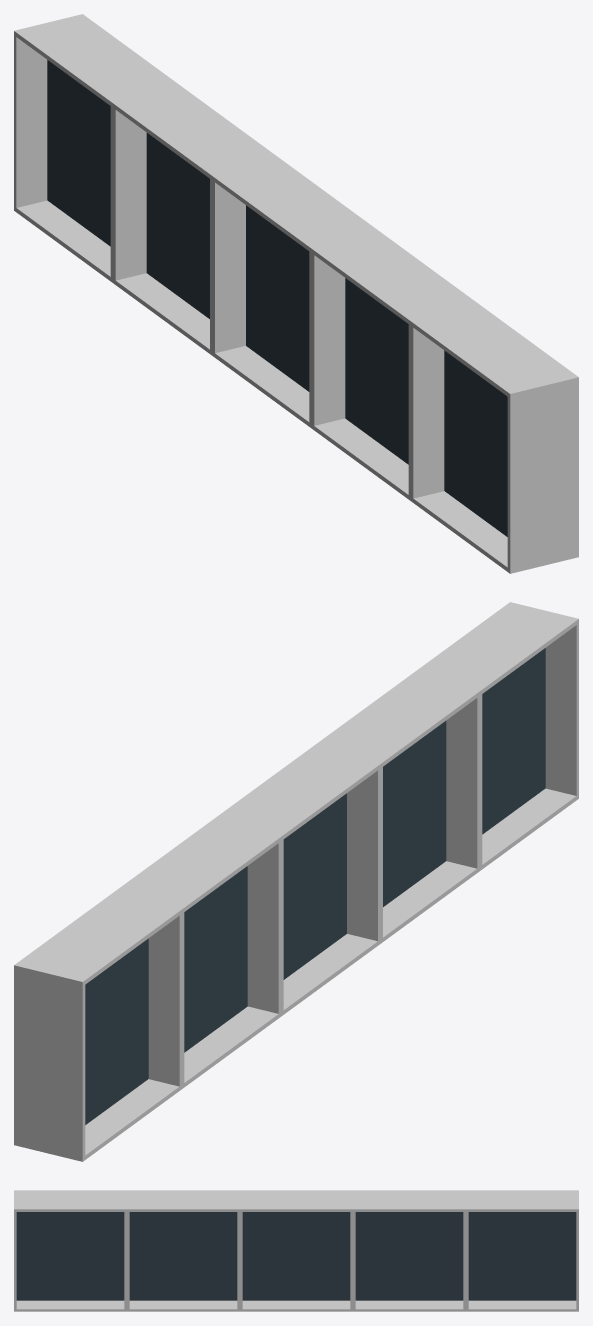
Rendered from Janela25x05.fbx.
The picture shows the model from 3 angles, top to bottom: view 1: azimuth 30°, elevation 25°; view 2: azimuth 150°, elevation 25°; view 3: azimuth 270°, elevation 25°; orthographic projection. The views are drawn at different scales.
Visible parts, largest first — view 1: Janela25x05; view 2: Janela25x05; view 3: Janela25x05.
Boxes of the visible parts, <box> form: Janela25x05: <box>14,14,578,573</box>; Janela25x05: <box>14,602,578,1161</box>; Janela25x05: <box>14,1190,578,1311</box>.
Bounding box in the file's own units: 20 × 50 × 250.
